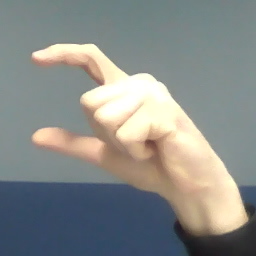C: (31, 38, 198, 196)
